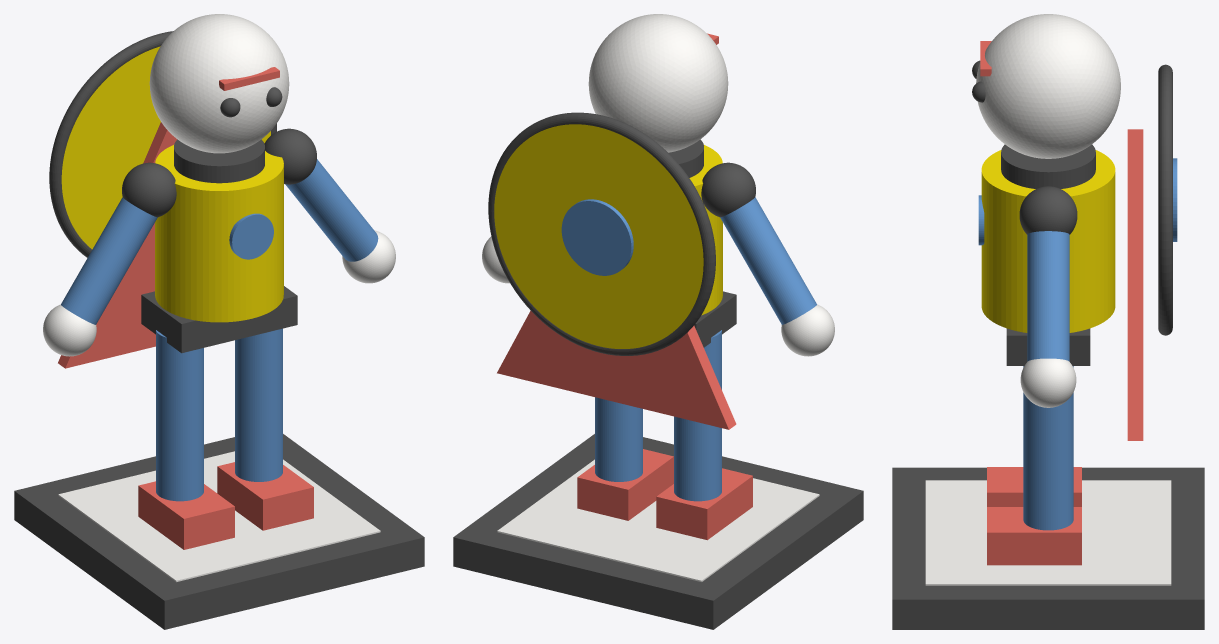
The model's file is kreis_the_wanderer.glb.
The picture shows the model from 3 angles, left to right: view 1: azimuth 30°, elevation 25°; view 2: azimuth 150°, elevation 25°; view 3: azimuth 270°, elevation 25°; orthographic projection. The views are drawn at different scales.
Visible parts, largest first — view 1: base, torso, head, base_inset, sun_disc, leg_R, leg_L, cloak, arm_R, foot_R, hips, foot_L (+9 smaller); view 2: sun_disc, base, head, base_inset, cloak, sun_rim, arm_R, leg_R, sun_centre, foot_R, foot_L, leg_L (+6 smaller); view 3: base, base_inset, head, torso, leg_L, arm_L, cloak, foot_L, sun_rim, collar, hand_L, shoulder_L (+2 smaller).
Part boxes in pixels (x1,y1,x2,y2): base: (14, 434, 424, 629); torso: (155, 145, 283, 322); head: (149, 14, 289, 153); base_inset: (58, 451, 380, 581); sun_disc: (61, 46, 270, 249); leg_R: (156, 330, 203, 501); leg_L: (235, 328, 282, 481); cloak: (58, 122, 177, 368); arm_R: (61, 197, 157, 324); foot_R: (138, 481, 234, 549); hips: (141, 286, 297, 353); foot_L: (217, 462, 313, 530); sun_disc: (494, 124, 703, 348); base: (453, 434, 863, 629); head: (588, 14, 728, 152); base_inset: (497, 459, 819, 581); cloak: (497, 310, 736, 429); sun_rim: (488, 112, 715, 355); arm_R: (720, 197, 816, 324); leg_R: (674, 330, 721, 501); sun_centre: (561, 199, 633, 275); foot_R: (656, 468, 752, 540); foot_L: (577, 449, 673, 520); leg_L: (595, 397, 642, 481); base: (892, 467, 1204, 629); base_inset: (925, 480, 1171, 585); head: (976, 14, 1120, 158); torso: (981, 150, 1115, 332); leg_L: (1023, 366, 1073, 530); arm_L: (1027, 231, 1069, 361); cloak: (1127, 129, 1143, 440); foot_L: (987, 507, 1081, 565); sun_rim: (1158, 64, 1172, 335); collar: (1001, 144, 1095, 188); hand_L: (1020, 358, 1076, 407); shoulder_L: (1019, 186, 1077, 234).
Bounding box in the file's own units: 0.7441 × 1.07 × 0.56.
